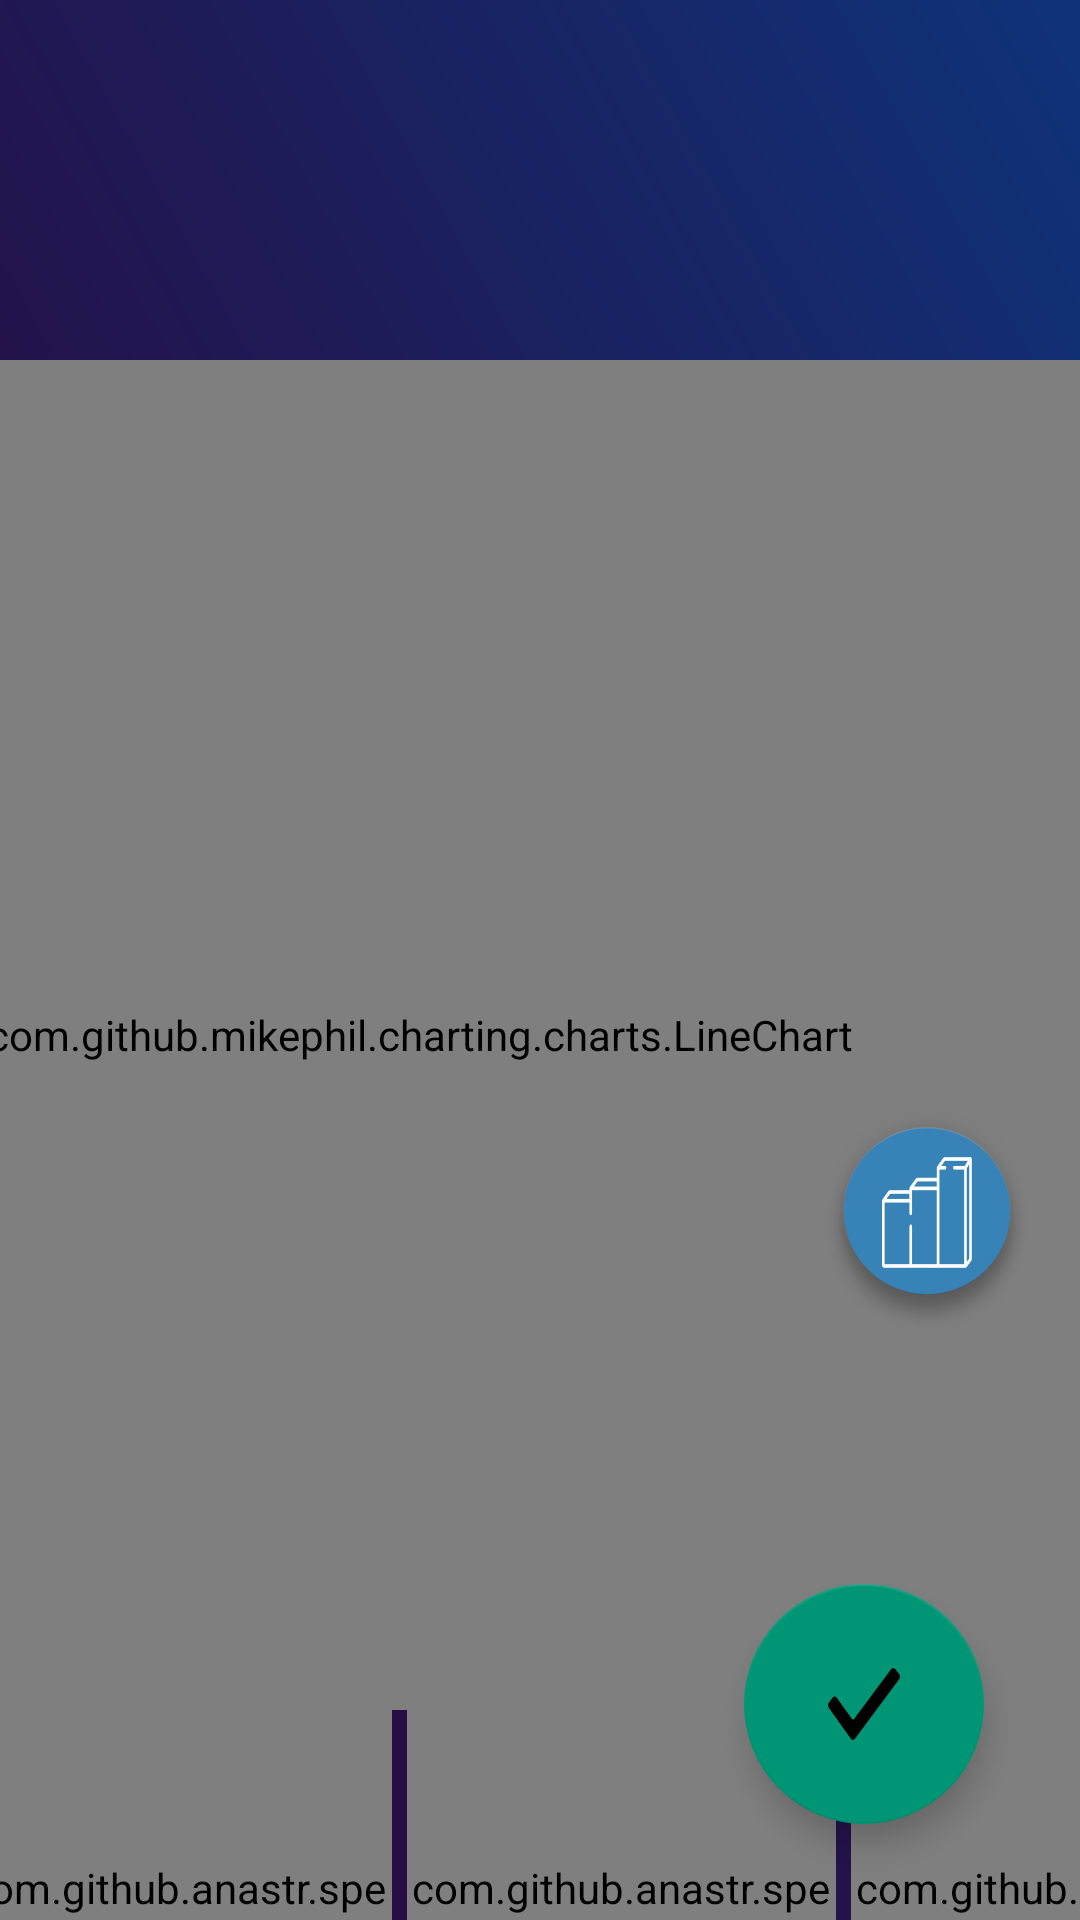

Named icons in this screenshot (1080 x 1920) and their bounding boxes, (x1, y1, x2, y2):
done: (744, 1584, 984, 1824)
